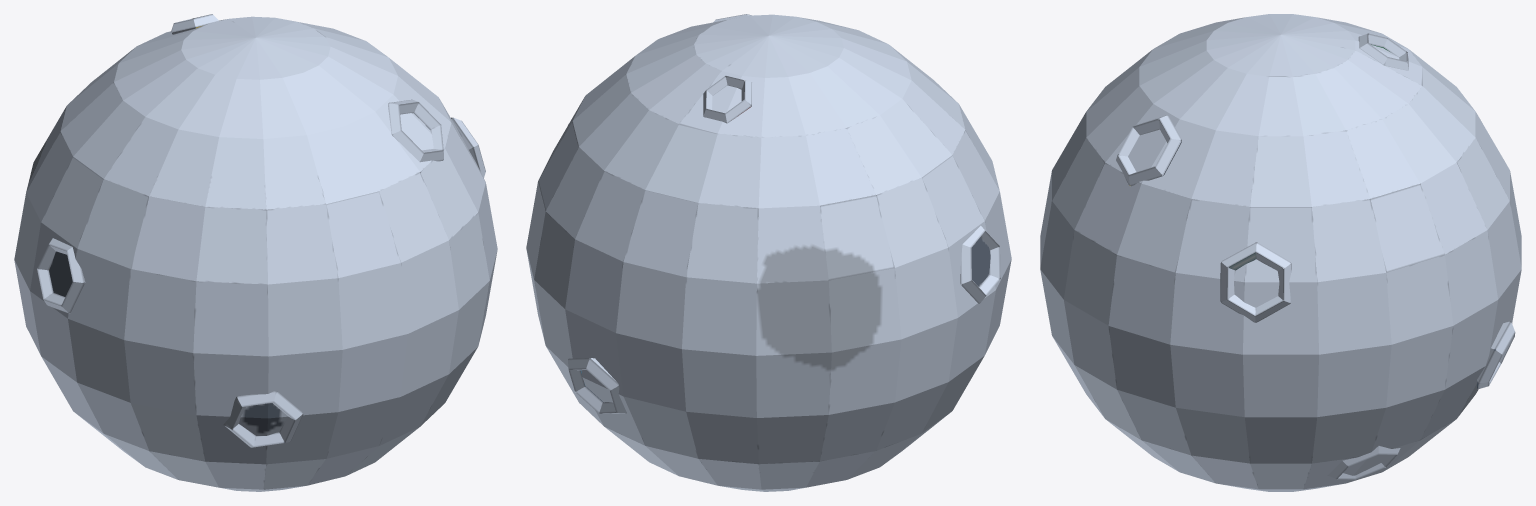
Rendered from startingMoon.fbx.
The picture shows the model from 3 angles, left to right: view 1: azimuth 30°, elevation 25°; view 2: azimuth 150°, elevation 25°; view 3: azimuth 270°, elevation 25°; orthographic projection.
Parts seen in each view (by area): view 1: sphere, torus_1, torus, torus_3, torus_4; view 2: sphere, torus_2, torus, torus_6; view 3: sphere, torus_4, torus_3, torus_6, torus_2, torus_5.
Part boxes in pixels (<box>): sphere: <box>14,16,497,491</box>; torus_1: <box>223,391,303,447</box>; torus: <box>37,238,85,313</box>; torus_3: <box>388,99,443,162</box>; torus_4: <box>451,117,485,177</box>; sphere: <box>526,14,1011,491</box>; torus_2: <box>568,358,626,413</box>; torus: <box>960,226,1000,303</box>; torus_6: <box>703,76,751,123</box>; sphere: <box>1040,14,1521,491</box>; torus_4: <box>1220,242,1291,322</box>; torus_3: <box>1116,115,1181,185</box>; torus_6: <box>1358,33,1408,70</box>; torus_2: <box>1476,321,1515,388</box>; torus_5: <box>1328,446,1400,479</box>.
Size of the model in its own units: 817 by 800 by 800.
Materials: 1 (1 with a texture image).
